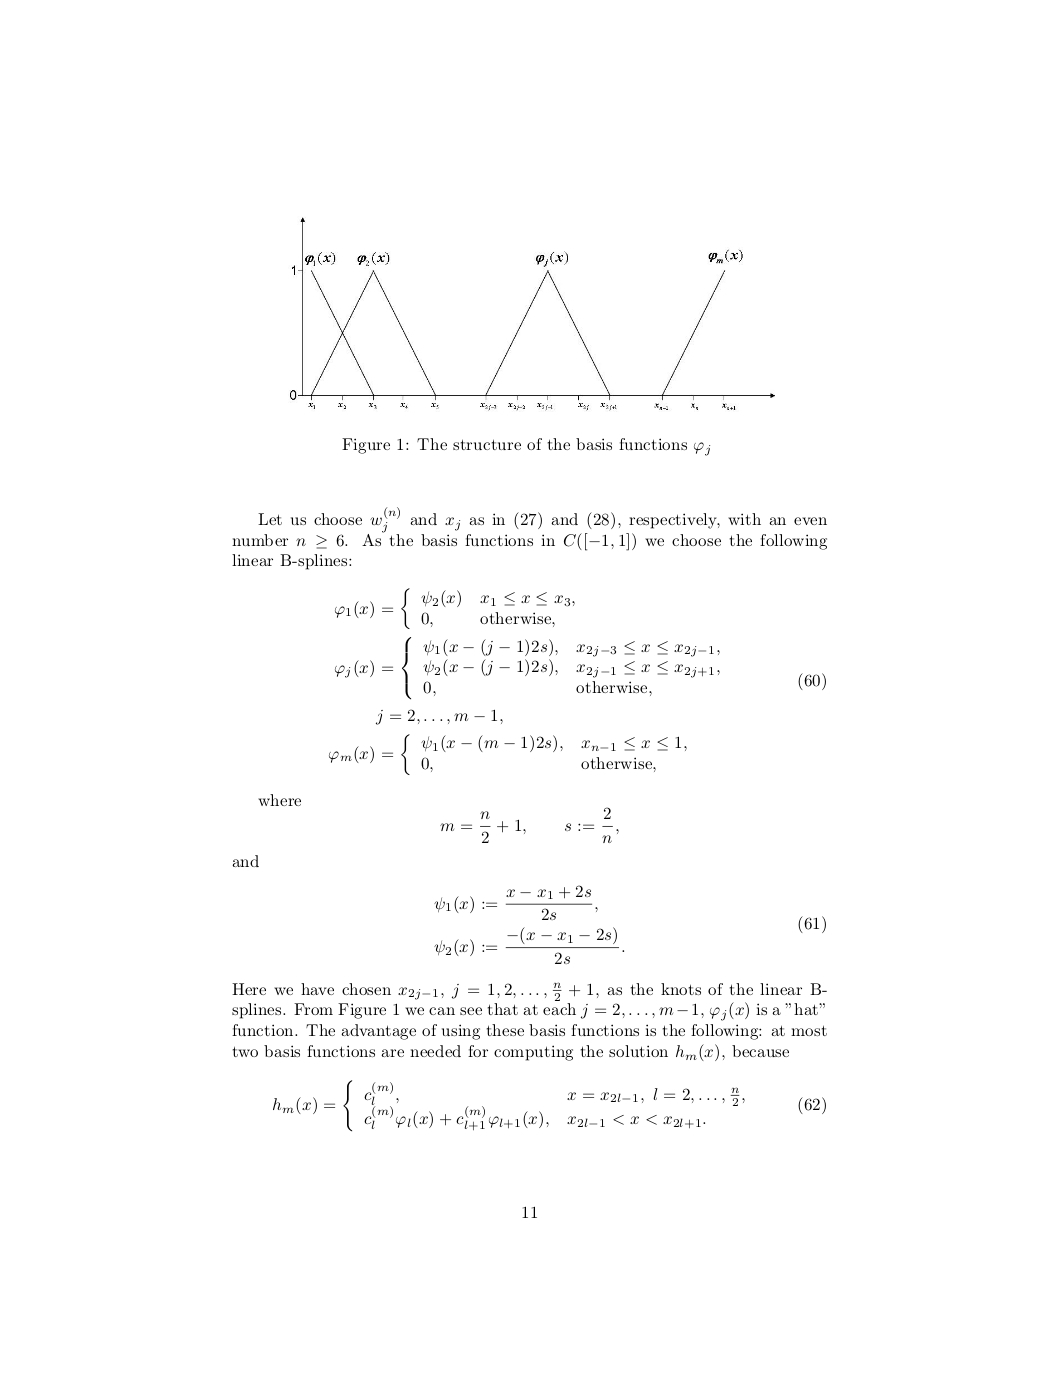figure: (290, 216, 773, 411)
formula: (434, 884, 825, 965), (334, 636, 825, 700), (273, 1079, 825, 1132), (328, 733, 687, 775), (334, 587, 574, 629), (440, 806, 619, 844), (374, 708, 502, 726)
